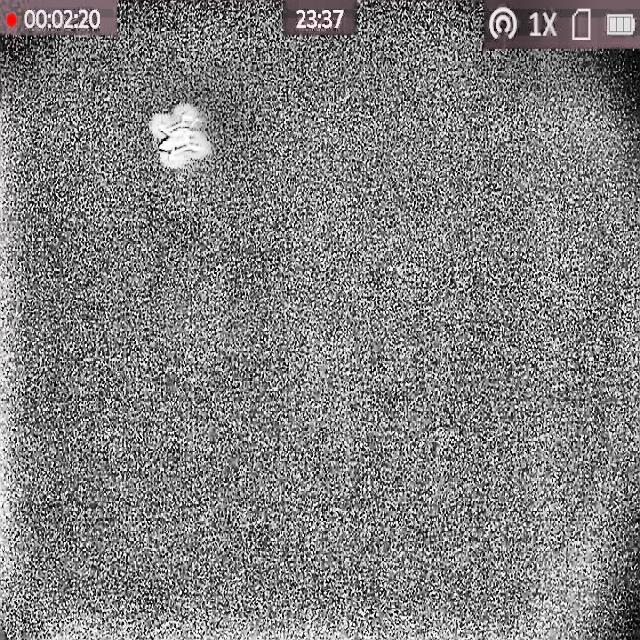drone: (149, 100, 212, 168)
